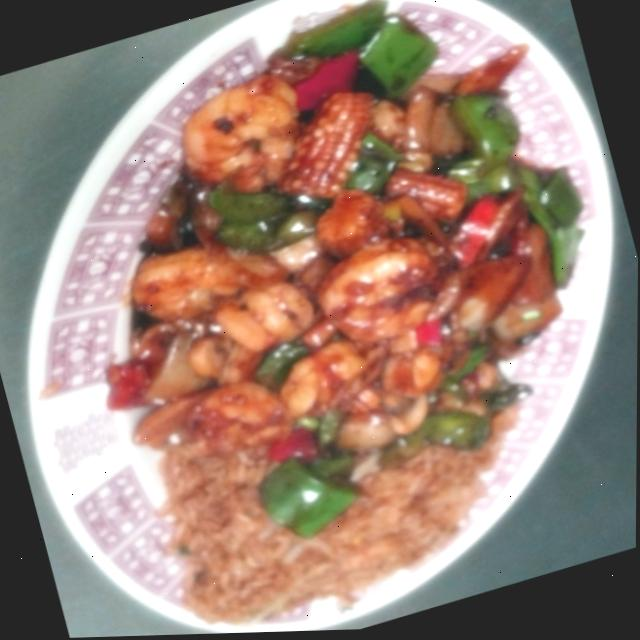鸡肉料理 含炸鸡: (5, 0, 640, 640)
